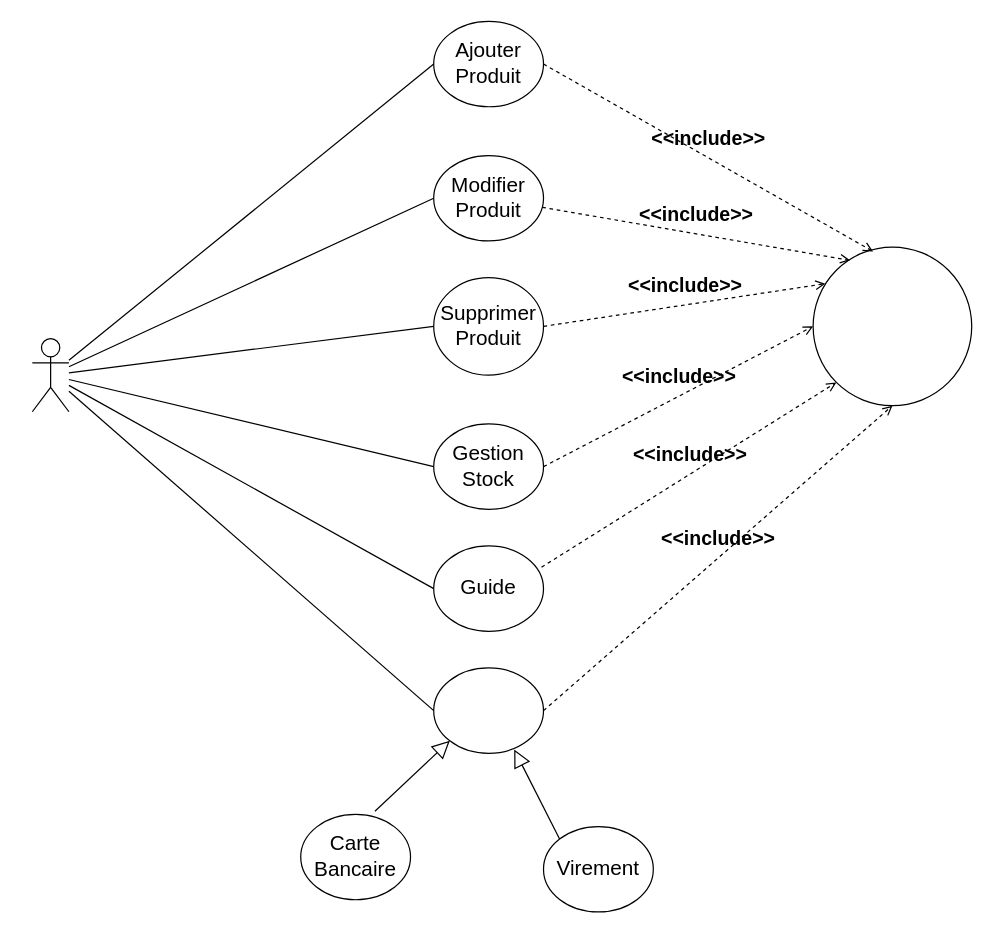
This 993x933 diagram has some shape labels left out. Here are the shapes that lost their labels. From the top down, the box of each, then its label:
(812, 246, 972, 406): Authentification
(31, 337, 69, 412): Seller
(432, 667, 544, 753): Payments
